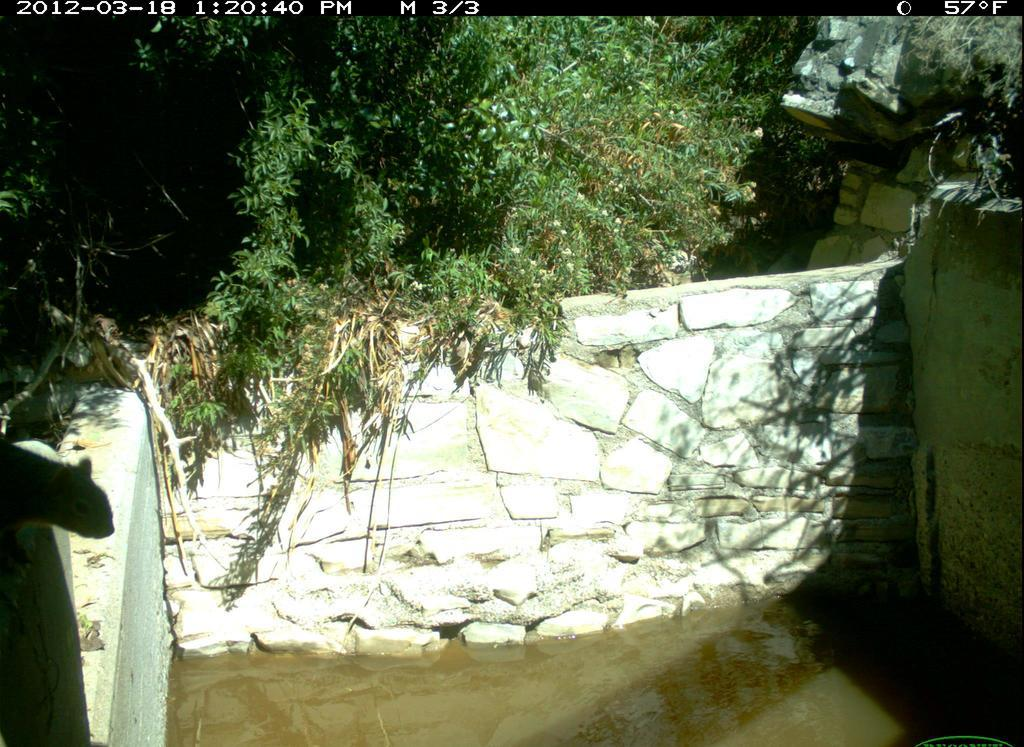squirrel: (3, 427, 126, 560)
